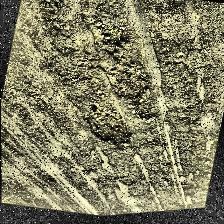pothole: (77, 16, 177, 128), (77, 99, 137, 157)
